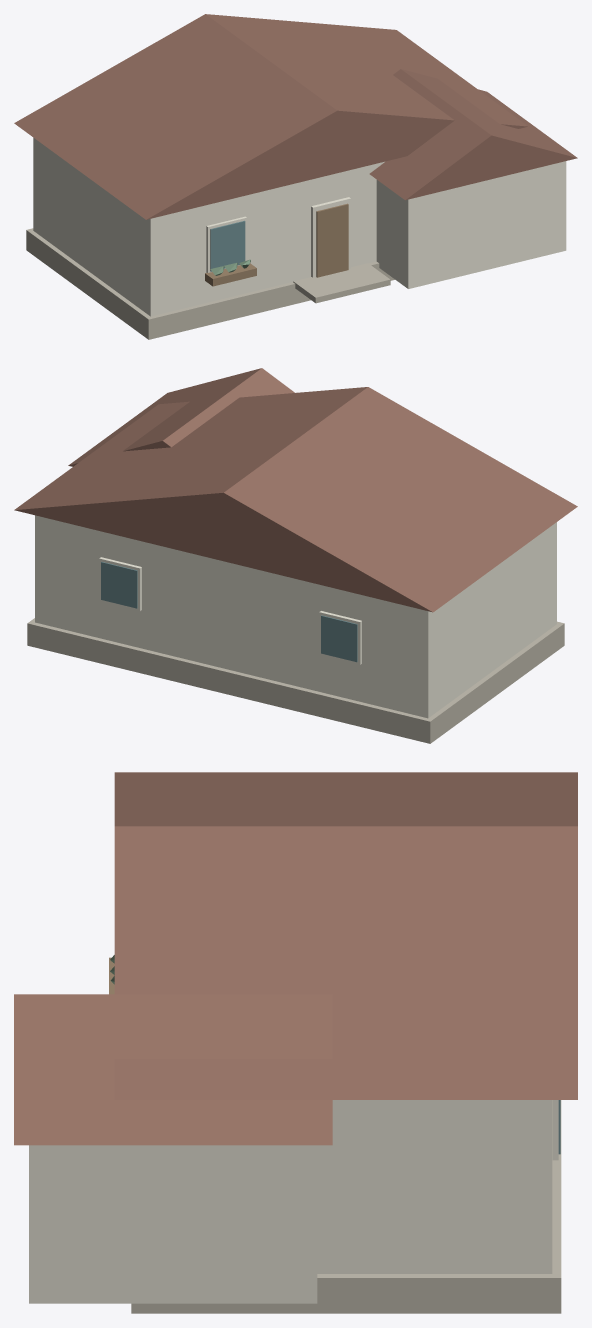
3 views of the same model, one above another, from view 1: azimuth 30°, elevation 25°; view 2: azimuth 150°, elevation 25°; view 3: azimuth 270°, elevation 25° (orthographic). The views are drawn at different scales.
Size of the model in its own units: 13.49 by 6 by 9.31.
